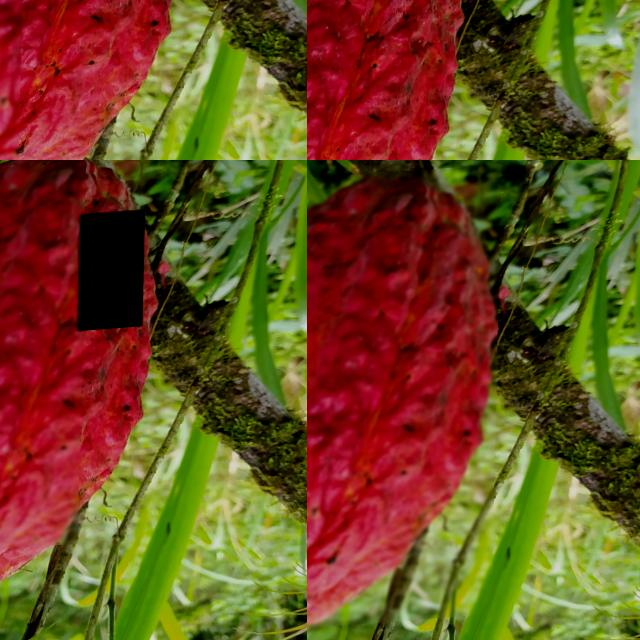Monilia: (79, 217, 146, 337)
Sana: (307, 171, 501, 640), (0, 167, 86, 562)
